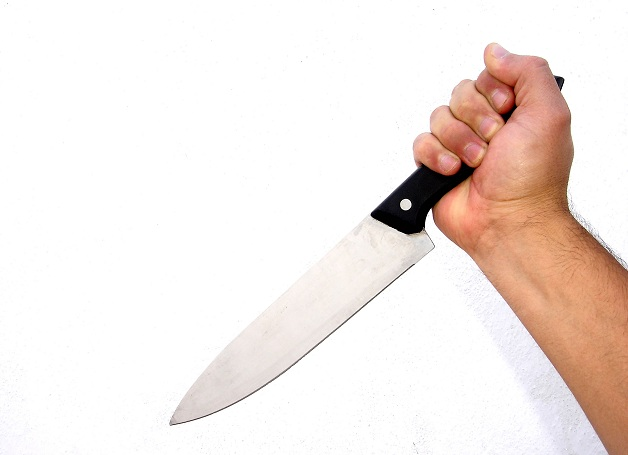knife: (161, 40, 546, 434)
